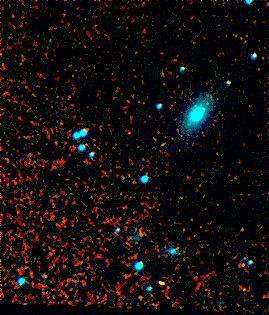star: (174, 109, 204, 139)
